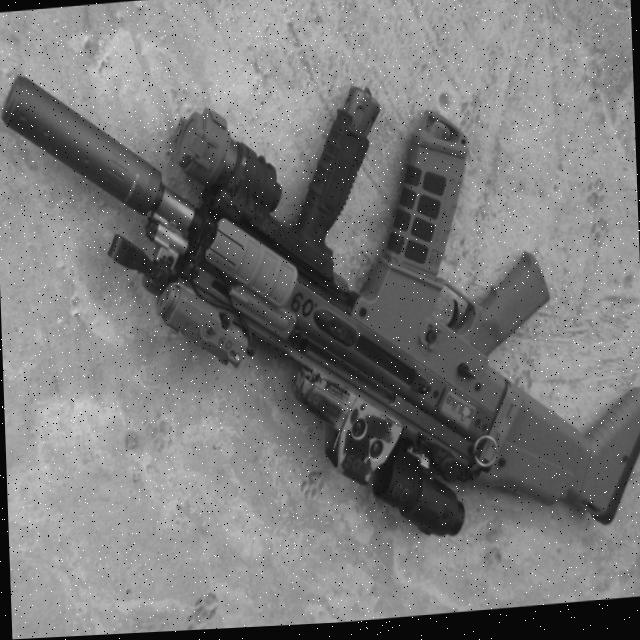firearm: (1, 28, 640, 578)
